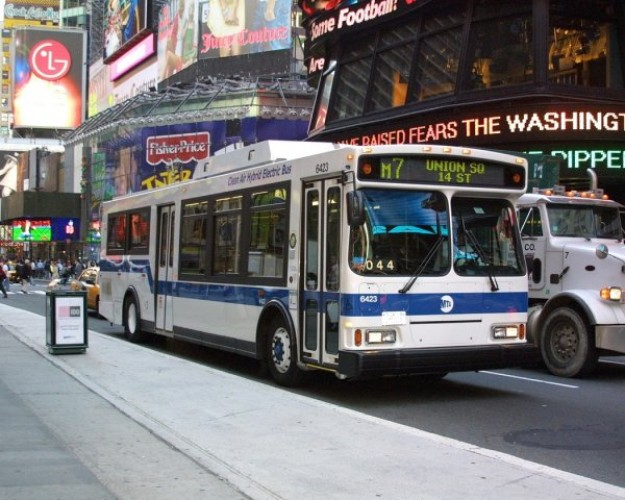bus: (81, 137, 540, 381)
